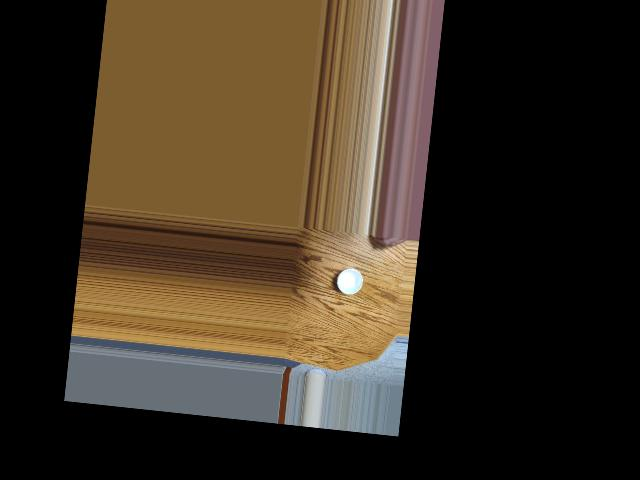cotage: (336, 264, 365, 298)
